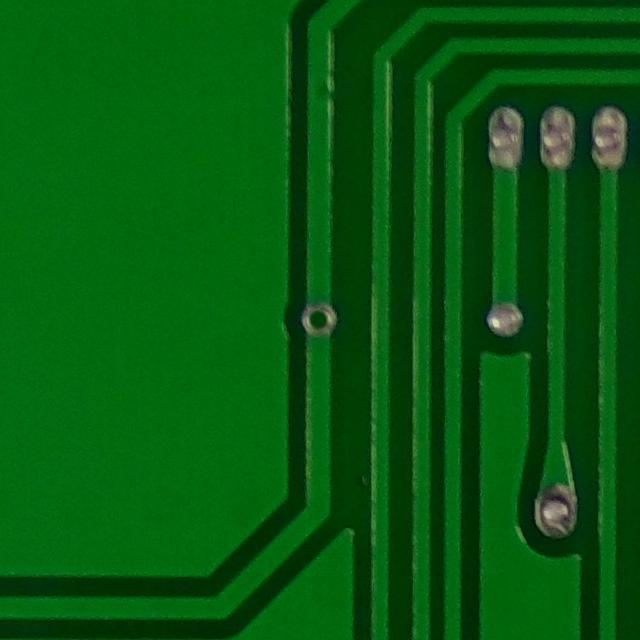missing_hole: (297, 296, 343, 345)
